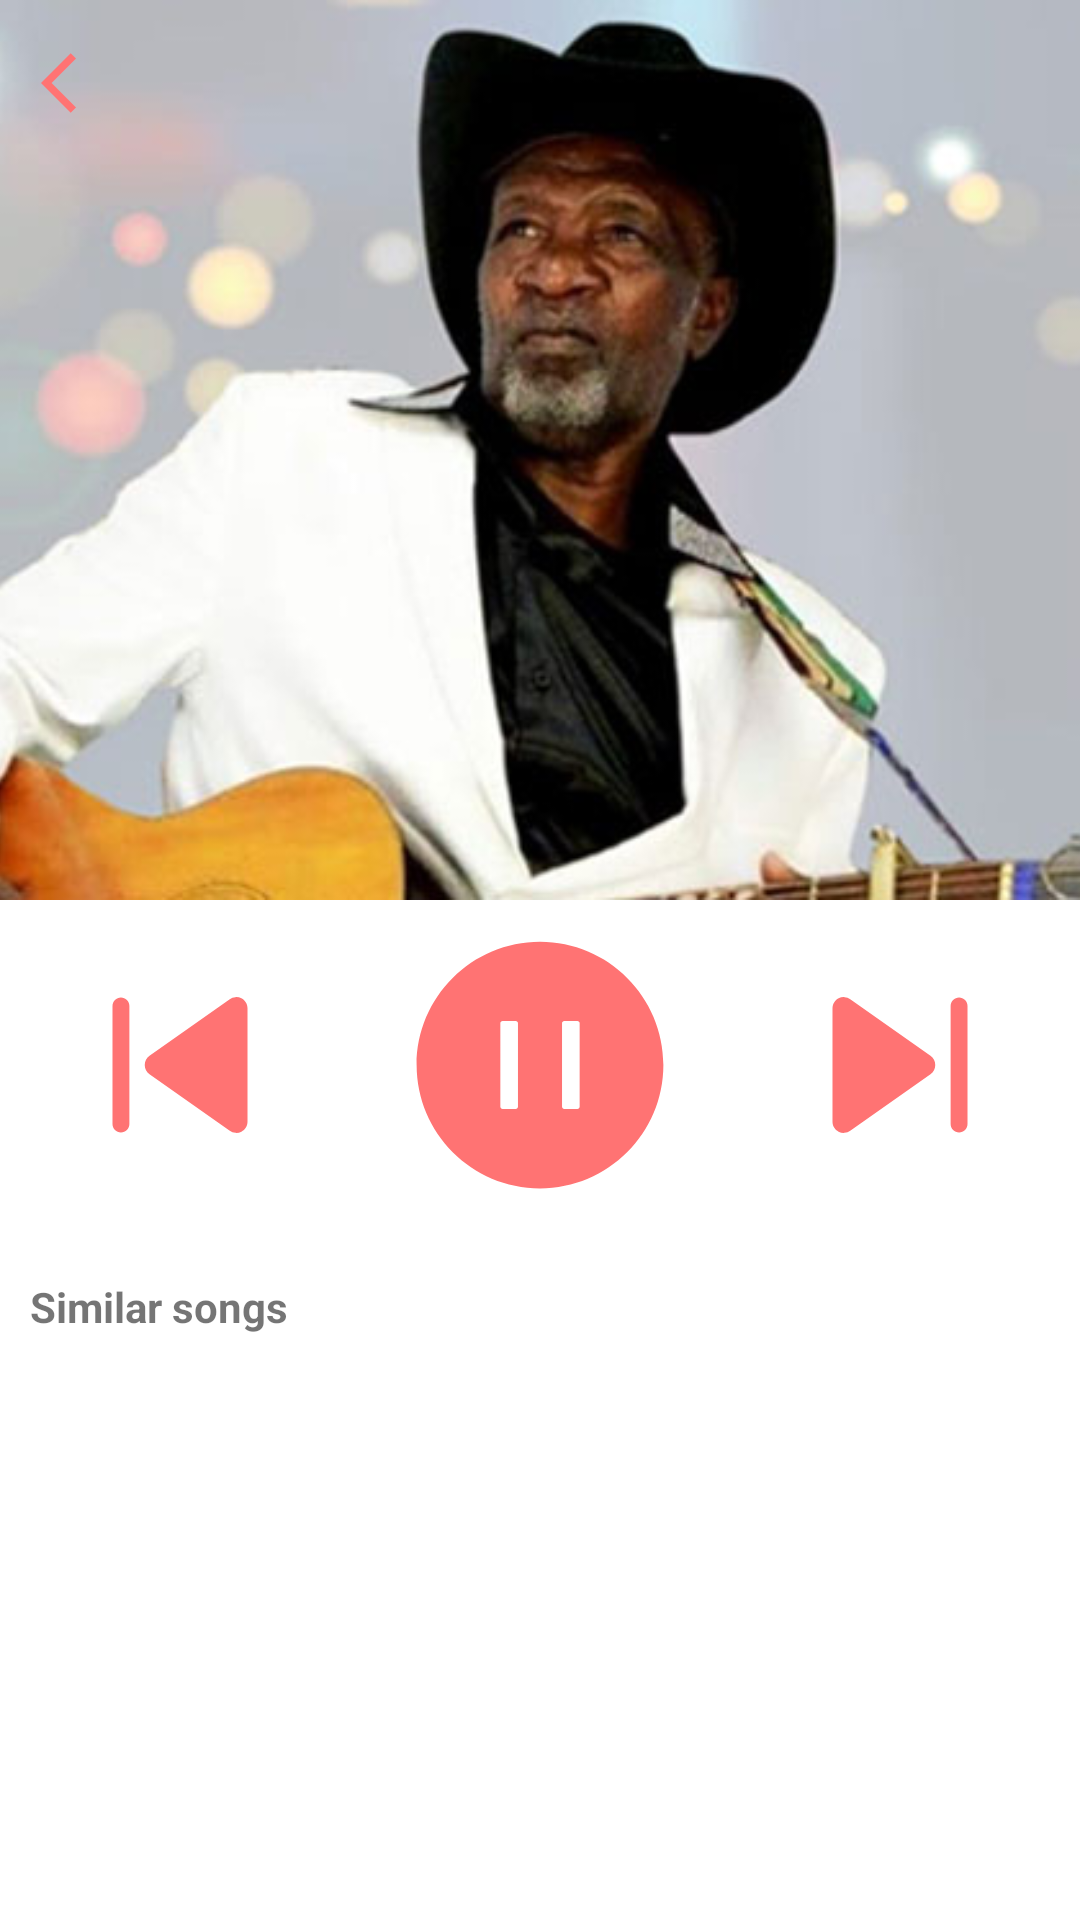

Where to tap for icons on this 1080×1920 app screen, as (x,y):
back: (58,83), (180,1065)
next: (900,1065)
pause: (540,1065)
